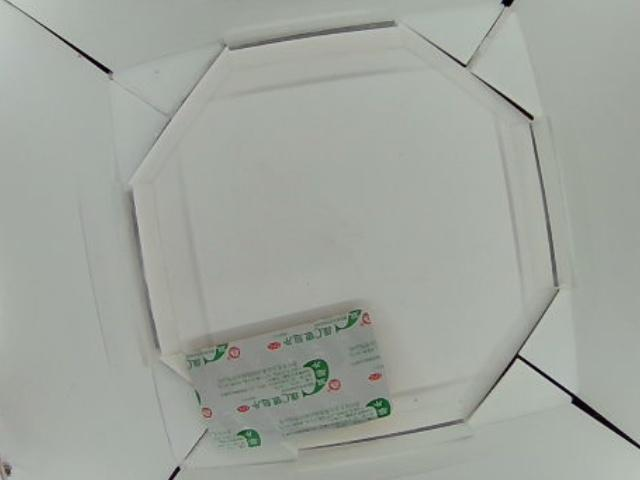Medicine: (187, 308, 396, 450)
